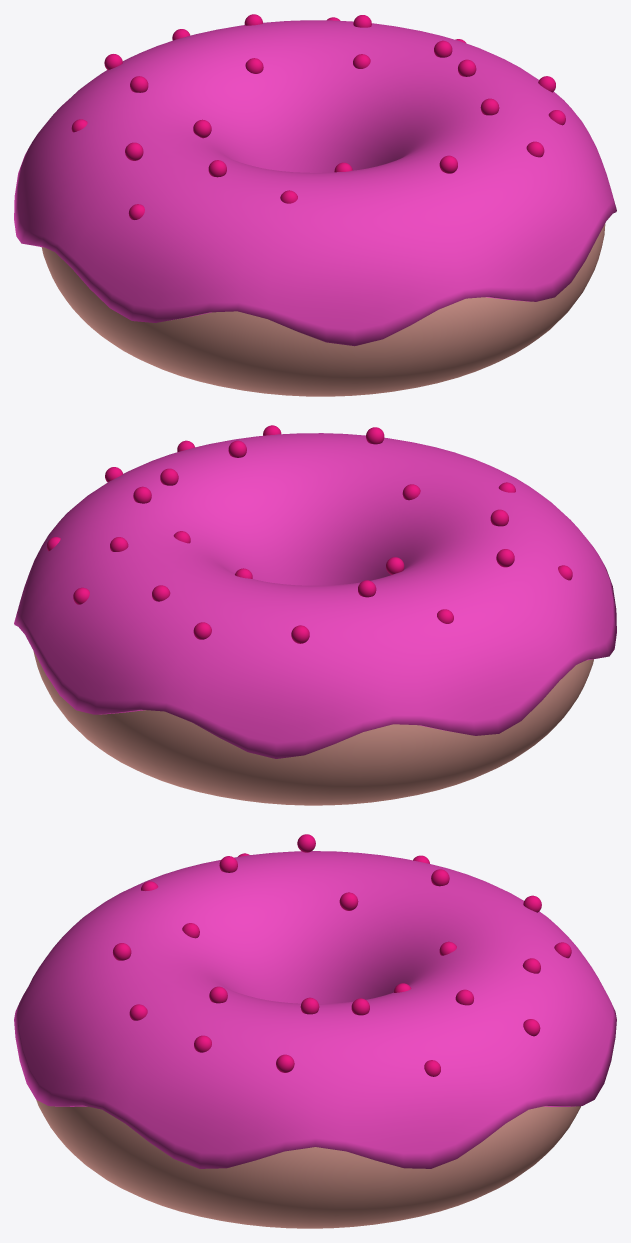
File: donut2.fbx
The picture shows the model from 3 angles, top to bottom: view 1: azimuth 30°, elevation 25°; view 2: azimuth 150°, elevation 25°; view 3: azimuth 270°, elevation 25°; orthographic projection.
Visible parts, largest first — view 1: トーラス.001, トーラス; view 2: トーラス.001, トーラス; view 3: トーラス.001, トーラス.
Boxes of the visible parts, x1,y1,x2,y2 form: トーラス.001: (14,20,616,346); トーラス: (41,223,605,396); トーラス.001: (14,433,616,758); トーラス: (33,651,593,805); トーラス.001: (14,851,616,1168); トーラス: (36,1100,581,1228).
Size of the model in its own units: 325 by 128 by 325.
